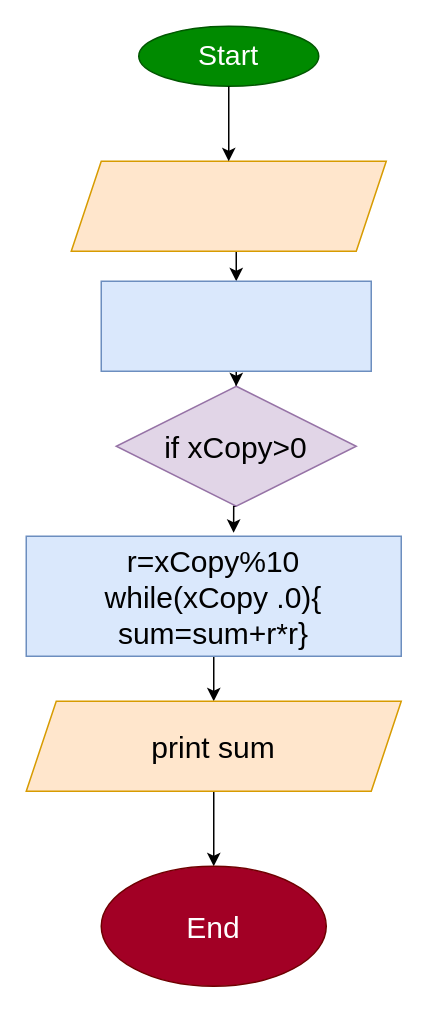
Some shapes in this 428 by 1013 pixel diagram are drawn without their labels. Here are the shapes that lost their labels. From the top down, the centre of each, then its label:
At point (228, 205): "Input:int X".
At point (235, 325): "Initialize:int xCopy".
